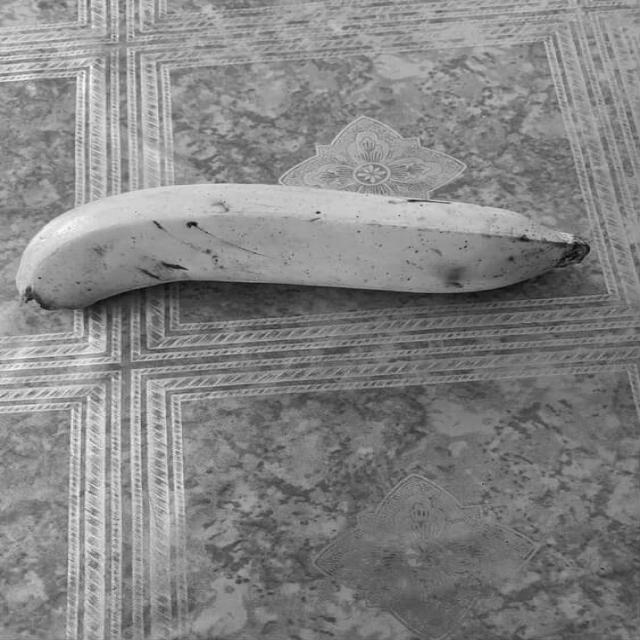Ripe: (10, 159, 599, 338)
